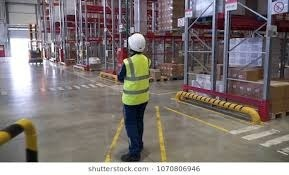helmet: (127, 32, 146, 53)
person with full safety: (113, 33, 152, 158)
safety vest: (123, 55, 151, 105)
